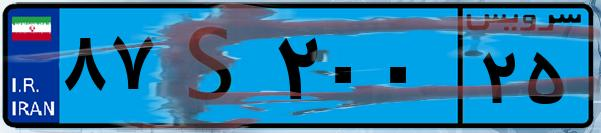0: (385, 28, 445, 110), (330, 28, 385, 110)
2: (270, 28, 330, 110), (475, 38, 525, 113)
5: (525, 38, 570, 115)
7: (110, 28, 158, 98)
8: (57, 26, 110, 100)
S: (158, 12, 270, 120)
